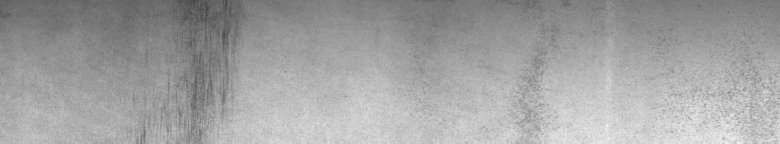ka: (139, 4, 235, 136)
